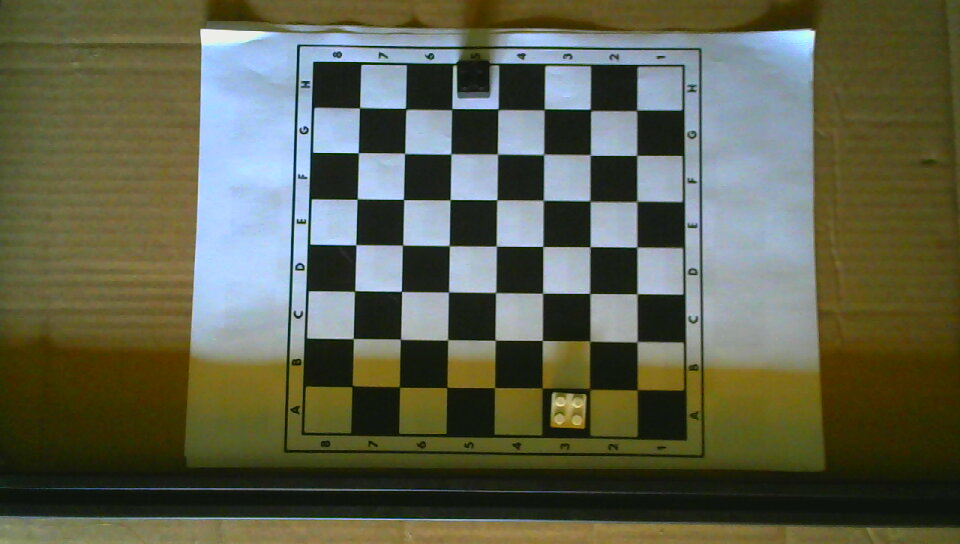bp: (454, 58, 492, 99)
wp: (549, 389, 587, 431)
